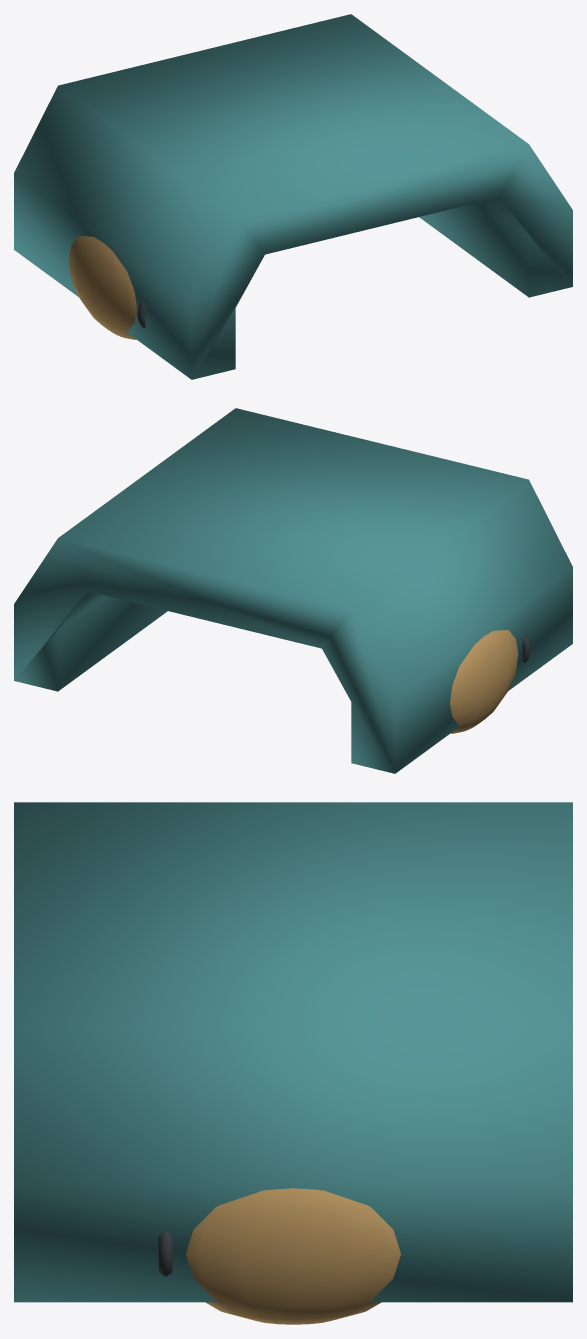
The model's file is workshop-headguard.glb.
The picture shows the model from 3 angles, top to bottom: view 1: azimuth 30°, elevation 25°; view 2: azimuth 150°, elevation 25°; view 3: azimuth 270°, elevation 25°; orthographic projection. The views are drawn at different scales.
Visible parts, largest first — view 1: workshop-headguard; view 2: workshop-headguard; view 3: workshop-headguard.
Boxes of the visible parts, left/top/right/bottom form: workshop-headguard: left=14, top=14, right=572, bottom=379; workshop-headguard: left=14, top=408, right=572, bottom=773; workshop-headguard: left=14, top=802, right=572, bottom=1324.
Size of the model in its own units: 27.6 by 11.3 by 21.
